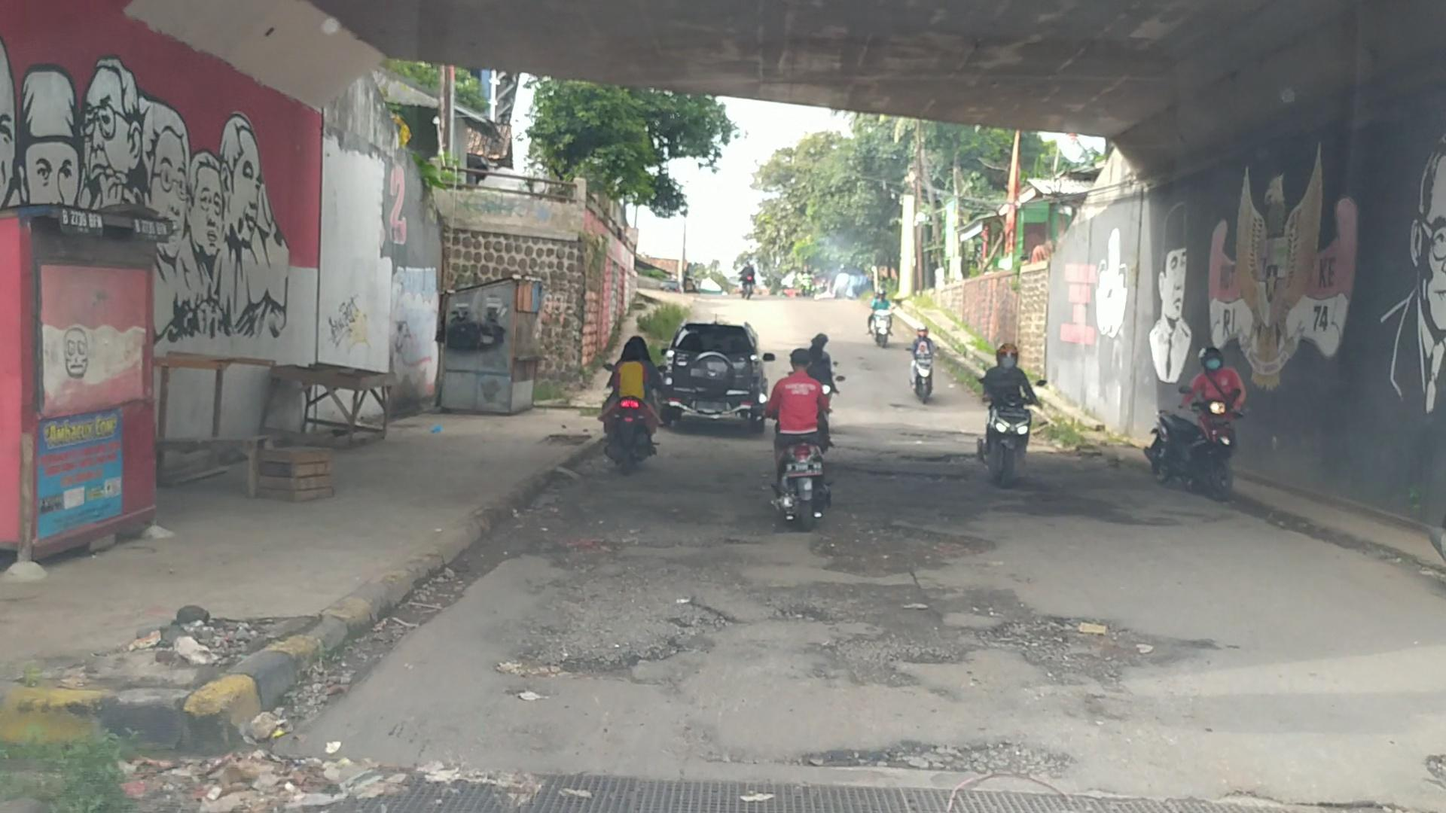pothole: (506, 547, 728, 679), (759, 583, 967, 686), (964, 591, 1186, 682), (793, 739, 1060, 776)
